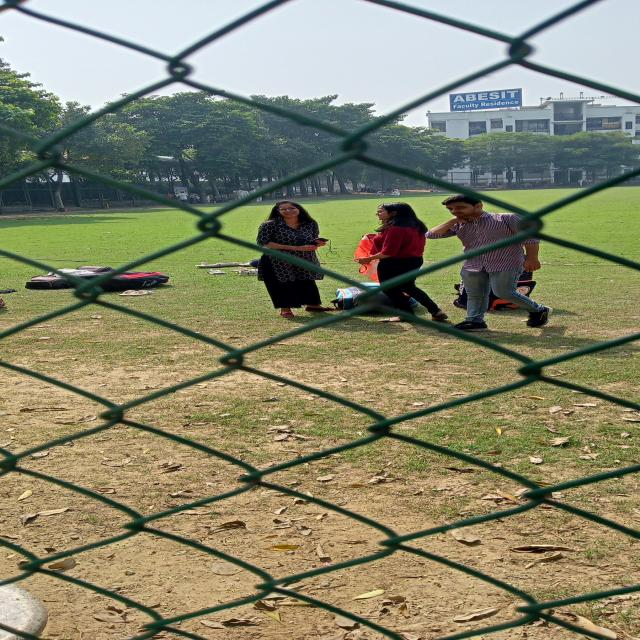unsafe: (429, 195, 558, 329), (349, 198, 453, 324), (256, 200, 335, 318)
